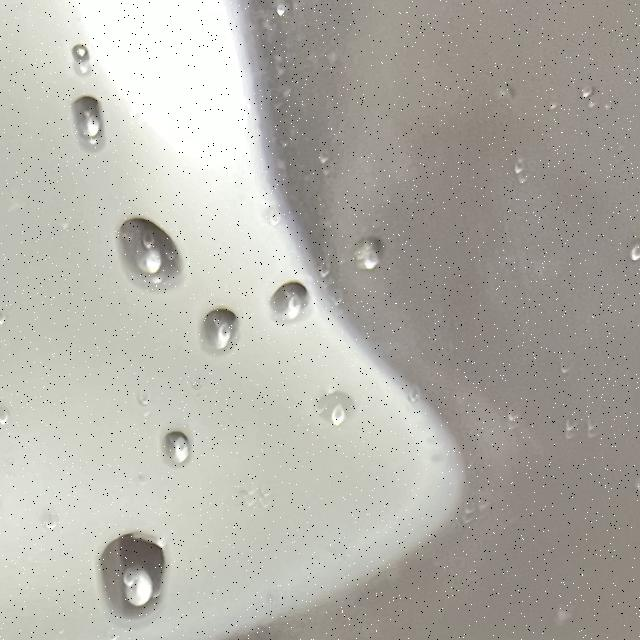raindrop: (97, 523, 179, 612), (106, 213, 184, 294), (150, 409, 222, 476), (258, 266, 317, 343), (76, 85, 130, 157), (181, 296, 243, 354), (303, 386, 374, 434), (348, 236, 394, 296), (53, 46, 107, 84)
